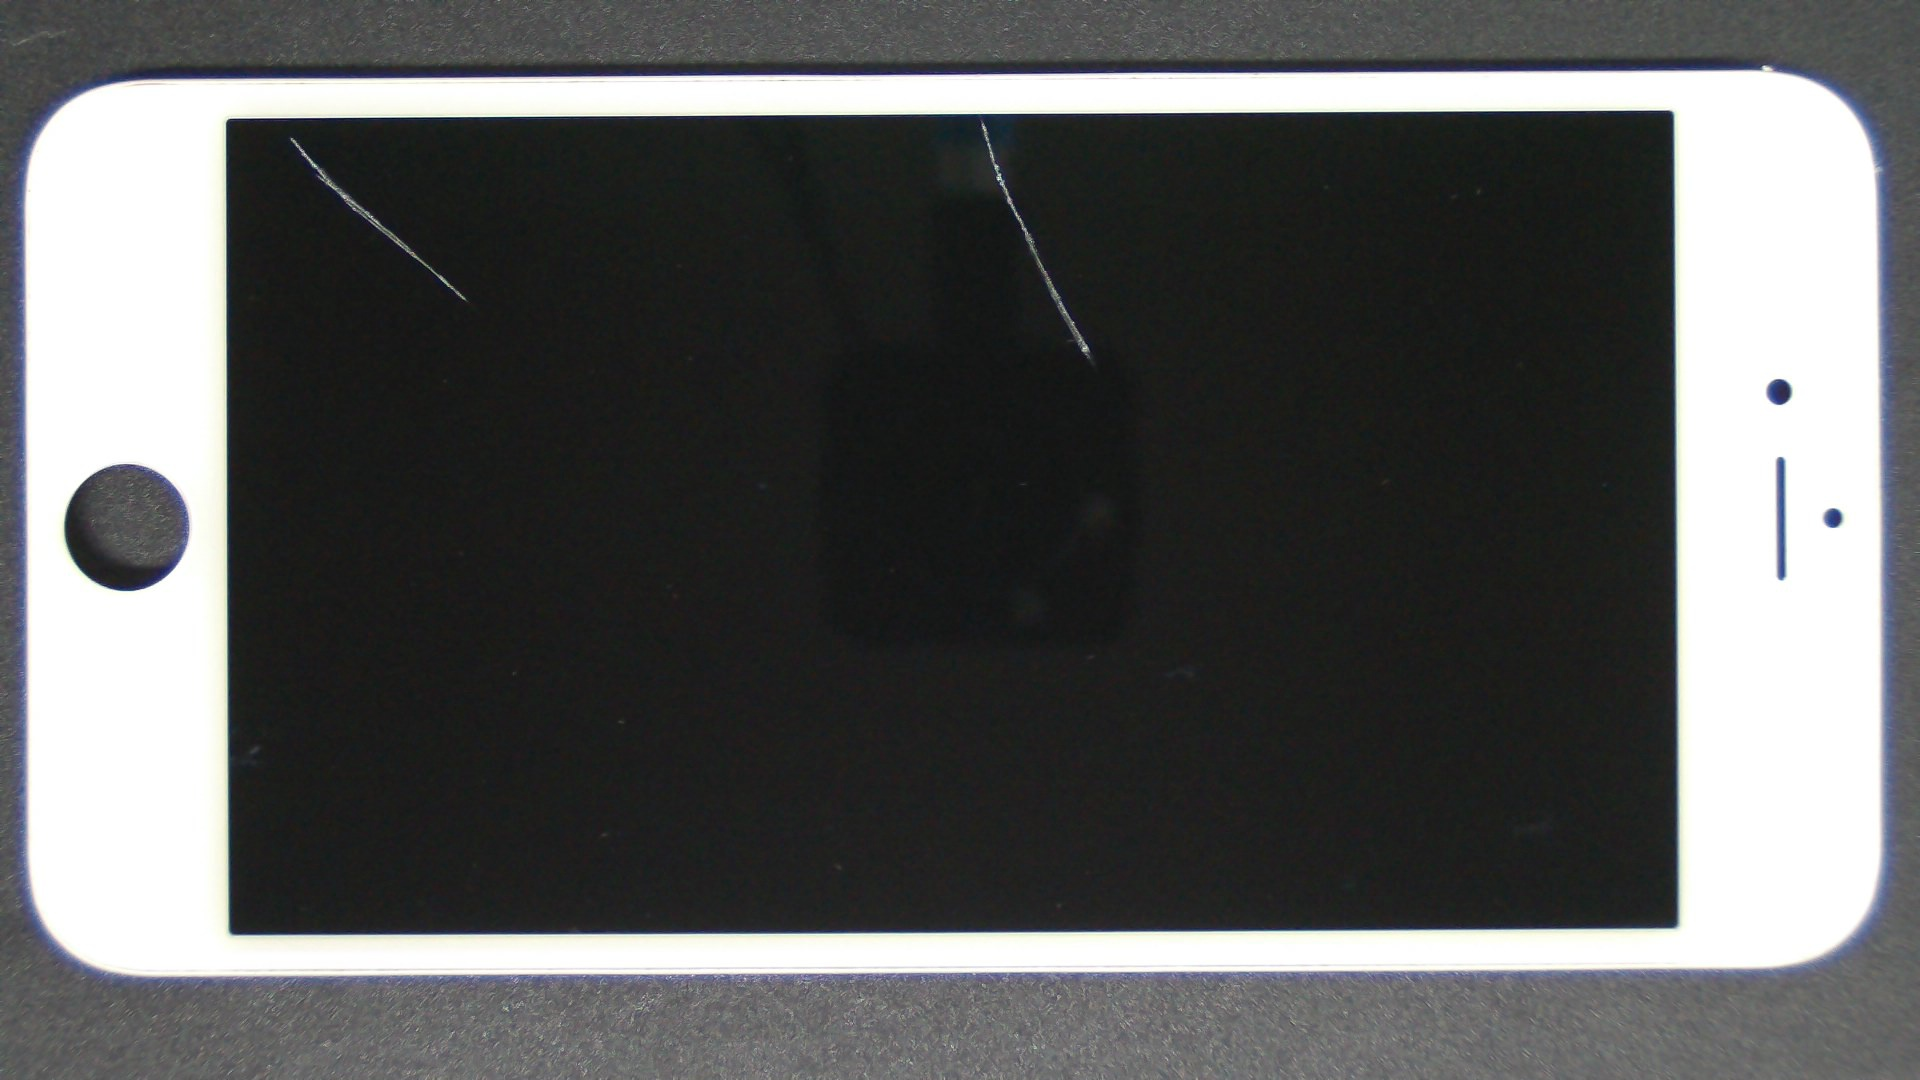oil: (491, 59, 1469, 179), (145, 67, 433, 204)
